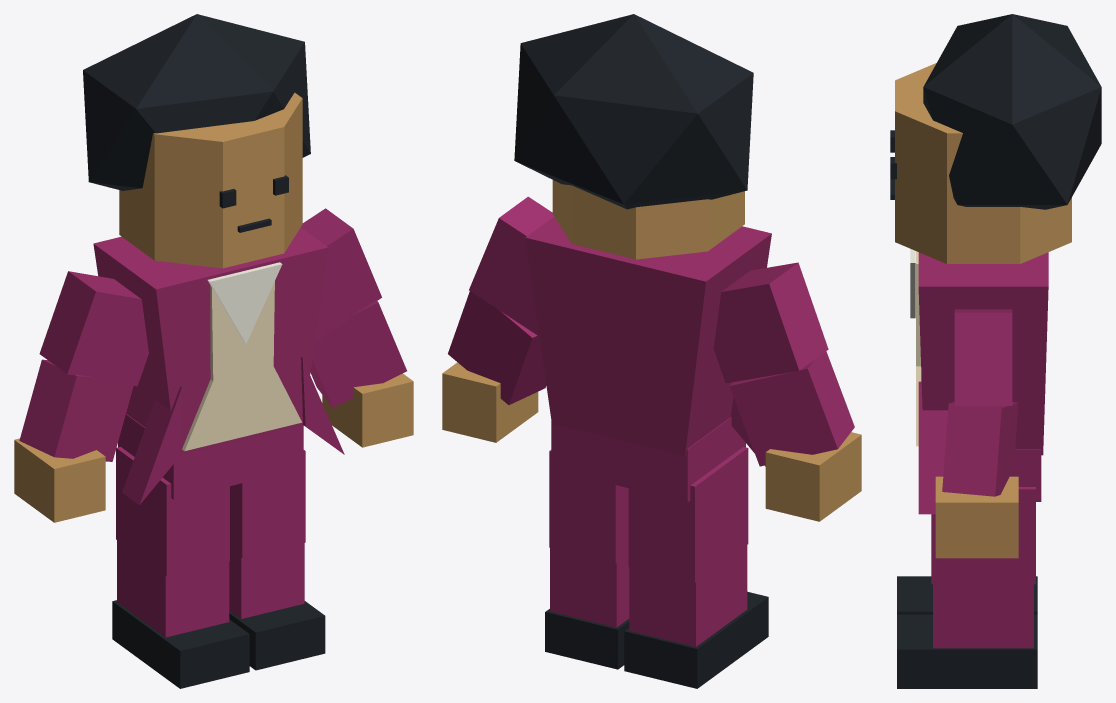
Rendered from Jefferson.glb.
3 views of the same model, side by side, from view 1: azimuth 30°, elevation 25°; view 2: azimuth 150°, elevation 25°; view 3: azimuth 270°, elevation 25° (orthographic). The views are drawn at different scales.
Parts seen in each view (by area): view 1: Body_M_CastV02_purple_a02c6c, Body_M_CastV02_black_1d2228, Body_M_CastV02_skin_c8995b, Body_M_CastV02_cream_f1e3bf, Body_M_CastV02_white_f9f7ea; view 2: Body_M_CastV02_purple_a02c6c, Body_M_CastV02_black_1d2228, Body_M_CastV02_skin_c8995b; view 3: Body_M_CastV02_purple_a02c6c, Body_M_CastV02_black_1d2228, Body_M_CastV02_skin_c8995b, Body_M_CastV02_cream_f1e3bf, Body_M_CastV02_white_f9f7ea.
Part boxes in pixels (x1,y1,x2,y2): Body_M_CastV02_purple_a02c6c: (19,208,406,637); Body_M_CastV02_black_1d2228: (83,14,325,688); Body_M_CastV02_skin_c8995b: (14,92,413,522); Body_M_CastV02_cream_f1e3bf: (182,281,302,451); Body_M_CastV02_white_f9f7ea: (207,262,282,343); Body_M_CastV02_purple_a02c6c: (448,196,854,646); Body_M_CastV02_black_1d2228: (514,14,768,688); Body_M_CastV02_skin_c8995b: (442,180,861,521); Body_M_CastV02_purple_a02c6c: (918,252,1048,648); Body_M_CastV02_black_1d2228: (890,14,1101,688); Body_M_CastV02_skin_c8995b: (895,63,1071,558); Body_M_CastV02_cream_f1e3bf: (916,251,921,446); Body_M_CastV02_white_f9f7ea: (910,249,915,318).
Bounding box in the file's own units: 1.23 × 1.95 × 0.5847.
